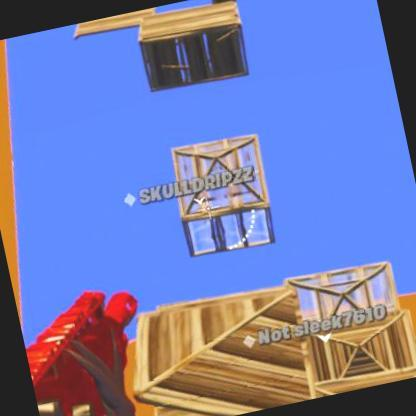person: (32, 287, 165, 416)
